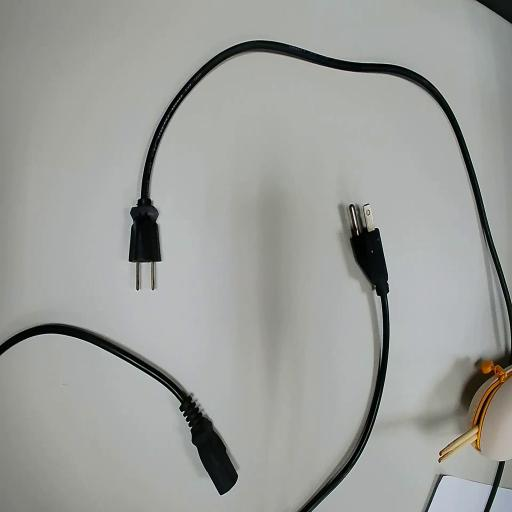wire: (130, 41, 511, 327), (0, 324, 236, 493), (300, 219, 387, 511)
